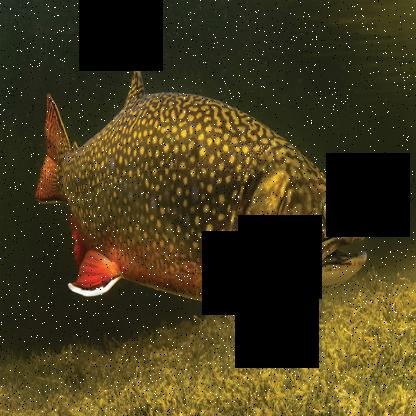fish: (34, 40, 368, 369)
